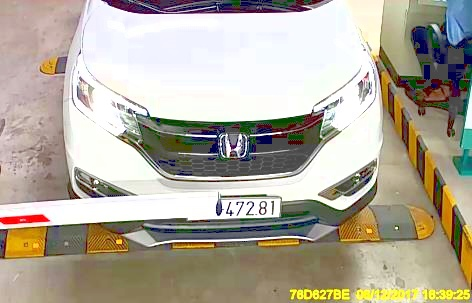plate: (223, 197, 282, 221)
